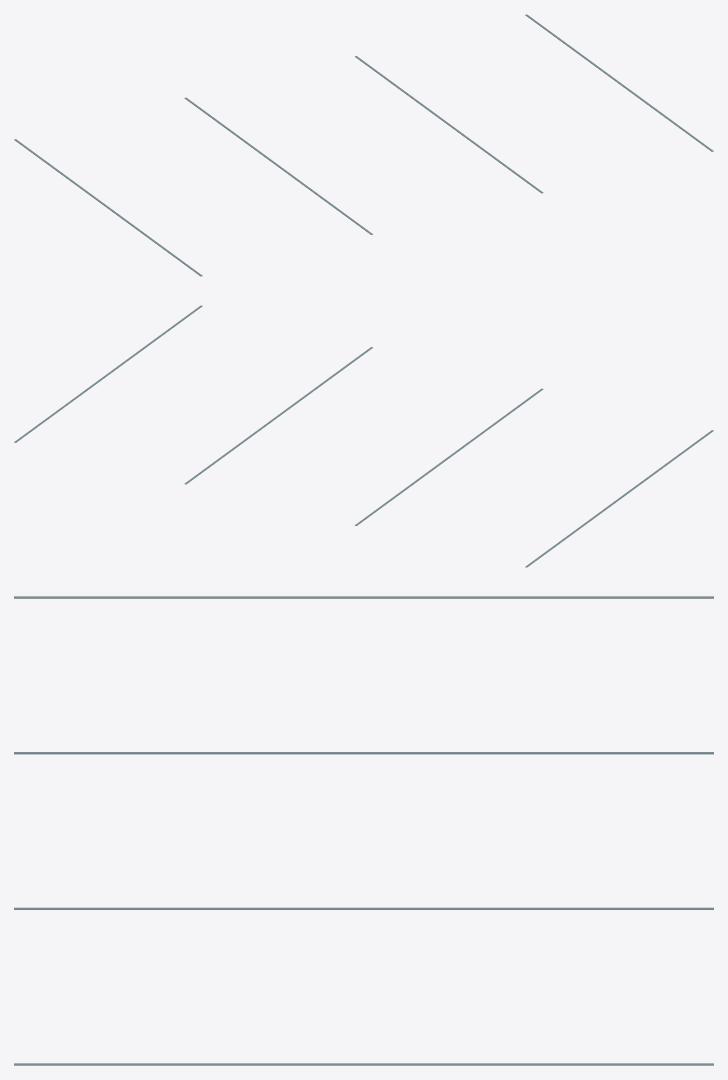
File: Transit_Walk_W4_Straight_8m_MarkPaverJoints.glb
3 renders of one model, top to bottom at view 1: azimuth 30°, elevation 25°; view 2: azimuth 150°, elevation 25°; view 3: azimuth 270°, elevation 25°, orthographic. The views are drawn at different scales.
Parts seen in each view (by area): view 1: Transit_Walk_W4_Straight_8m_MarkPaverJoints; view 2: Transit_Walk_W4_Straight_8m_MarkPaverJoints; view 3: Transit_Walk_W4_Straight_8m_MarkPaverJoints.
Boxes of the visible parts, bbox=[...] form: Transit_Walk_W4_Straight_8m_MarkPaverJoints: bbox=[14, 14, 713, 276]; Transit_Walk_W4_Straight_8m_MarkPaverJoints: bbox=[14, 305, 713, 567]; Transit_Walk_W4_Straight_8m_MarkPaverJoints: bbox=[14, 596, 713, 1065].
Size of the model in its own units: 6.02 by 0.003 by 3.8.
